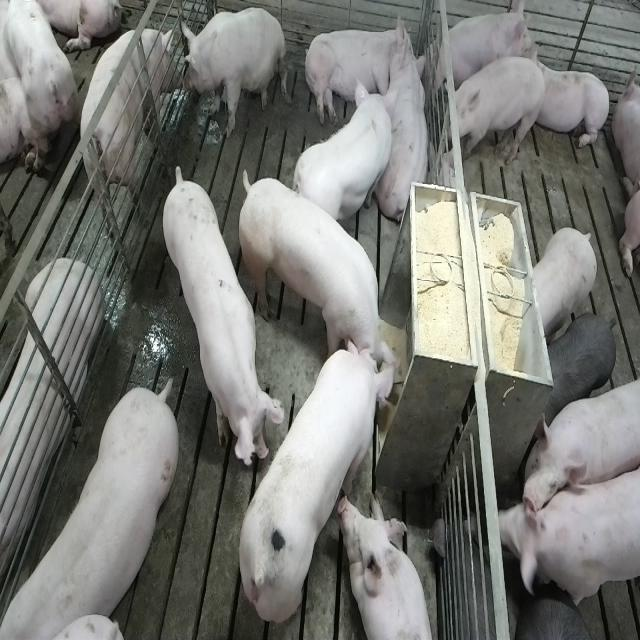Feeding: (236, 337, 399, 625), (232, 165, 398, 384)
Lateral_lying: (302, 12, 419, 129)
Sitting: (180, 7, 286, 139)
Standing: (5, 374, 184, 636), (158, 164, 280, 472), (503, 454, 638, 616), (81, 27, 179, 235), (518, 372, 636, 524), (294, 77, 393, 236), (0, 0, 78, 178), (439, 53, 547, 168), (542, 311, 616, 428), (530, 226, 598, 342), (512, 595, 604, 640)
Sternal_lying: (0, 260, 100, 592), (343, 493, 437, 640), (379, 29, 434, 234), (527, 52, 612, 154)
